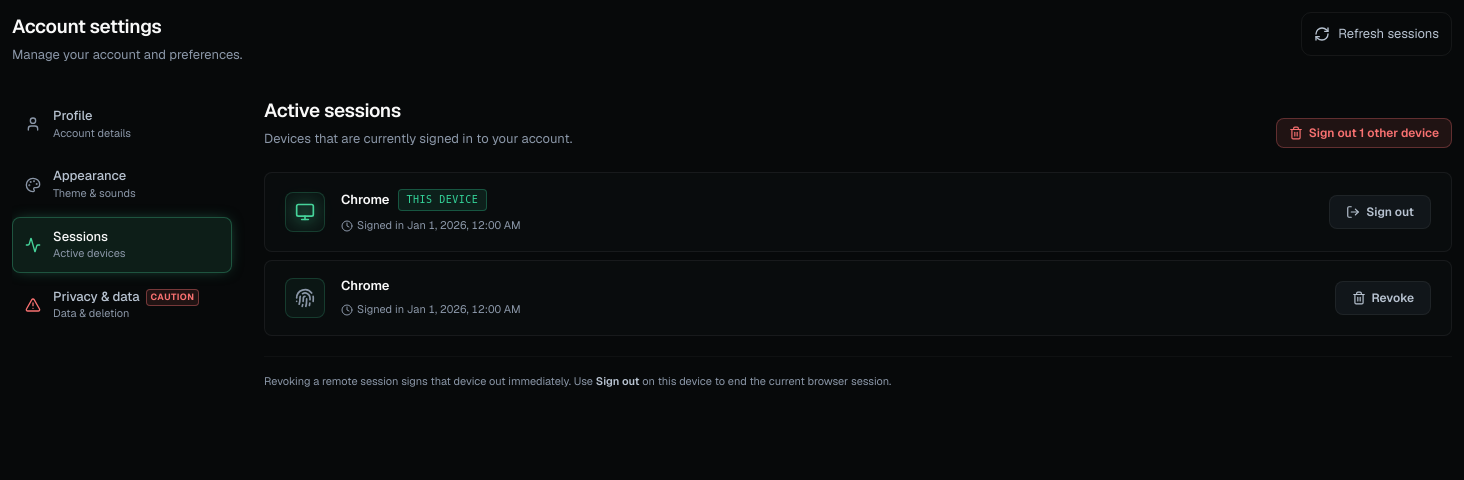
Test case: session revocation recovery › keeps the others revocation confirmation retryable after failure and clears a recovered error
Click the button "Sign out 1 other device": [1364, 133] box [1276, 118, 1452, 148]
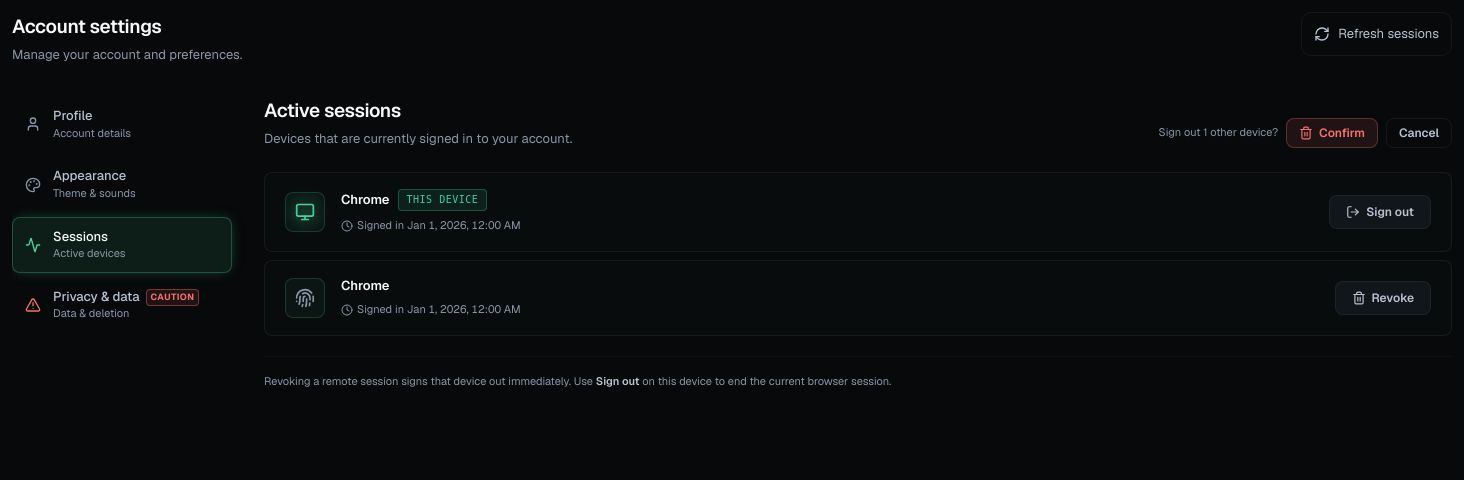
Click the button "Confirm": [1332, 133] box [1286, 118, 1378, 148]
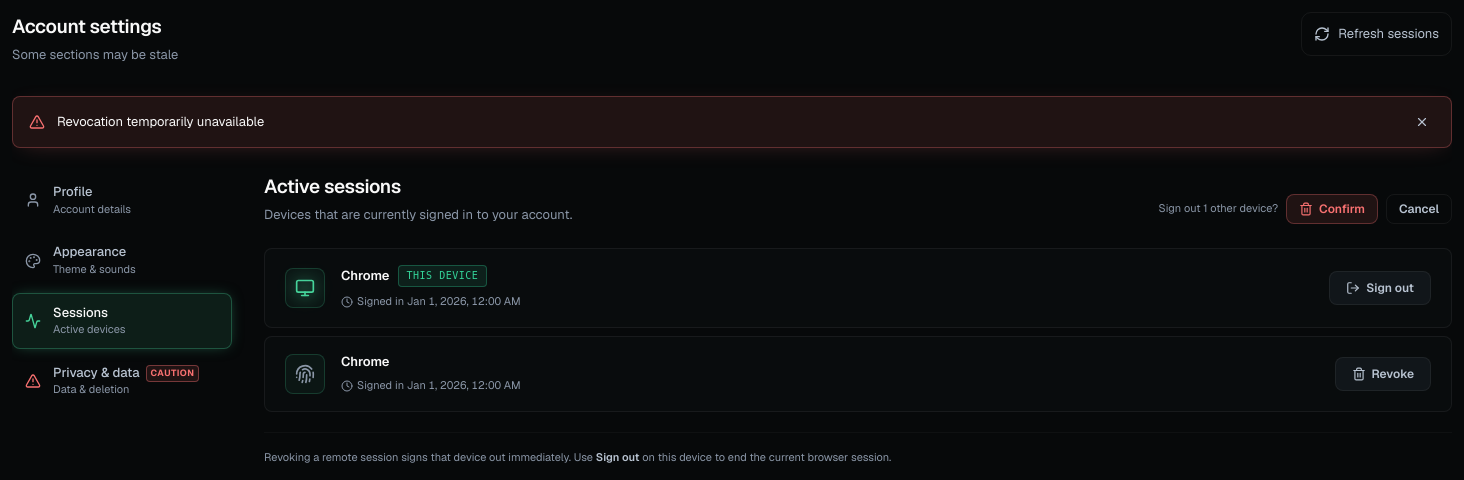
Result: the message reads "Revocation temporarily unavailable" at [57, 113, 264, 130]
Click the button "Confirm": [1332, 209] box [1286, 194, 1378, 224]
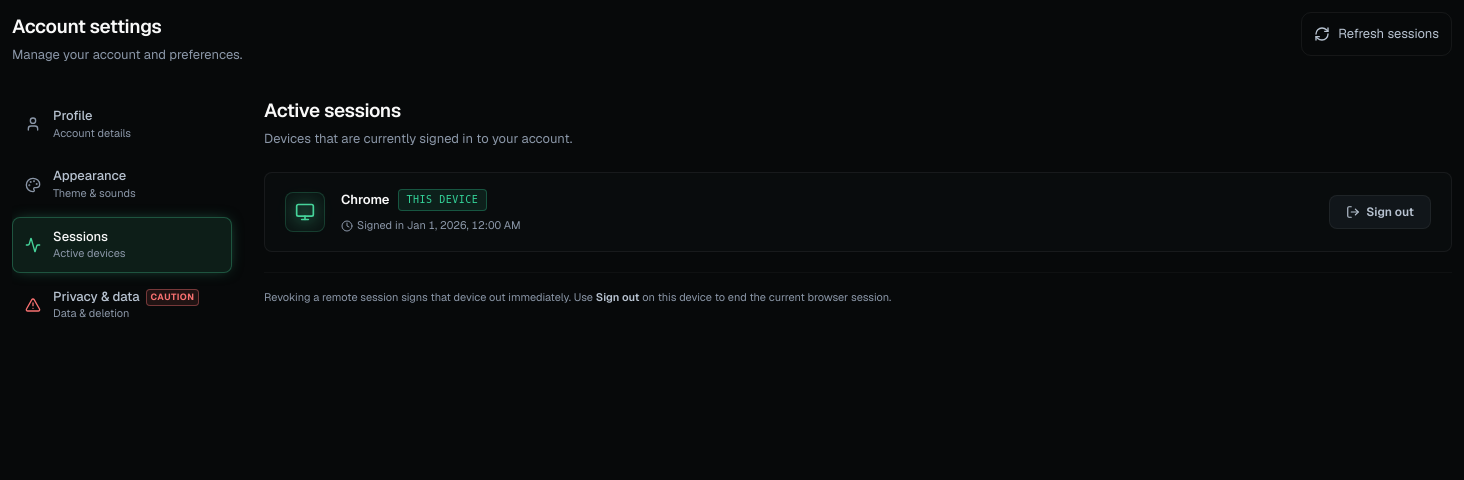
Result: the button "Confirm" is gone
Result: the message "Revocation temporarily unavailable" is gone
Result: the button "Revoke" is gone
